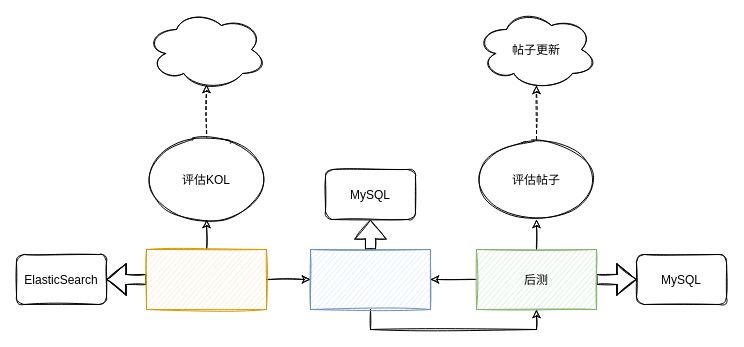
The diagram is 744 pixels wide and 347 high, and some of its shapes have lost their labels. The centre of each missing label's shape, as x and y in pixels:
"timeline更新" goes at (x=206, y=49).
"前测" goes at (x=370, y=279).
"榜单KOL" goes at (x=206, y=279).
